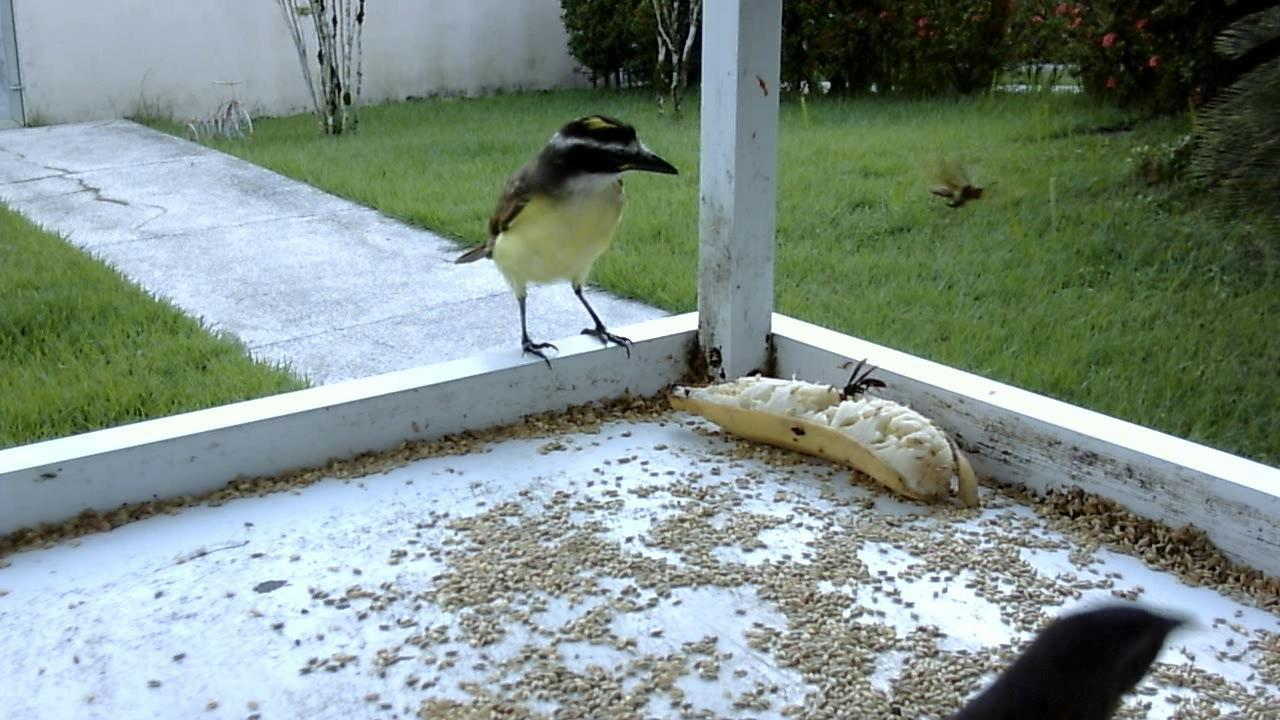bem_te_vi: (435, 99, 679, 381)
chupim: (933, 584, 1220, 713)
